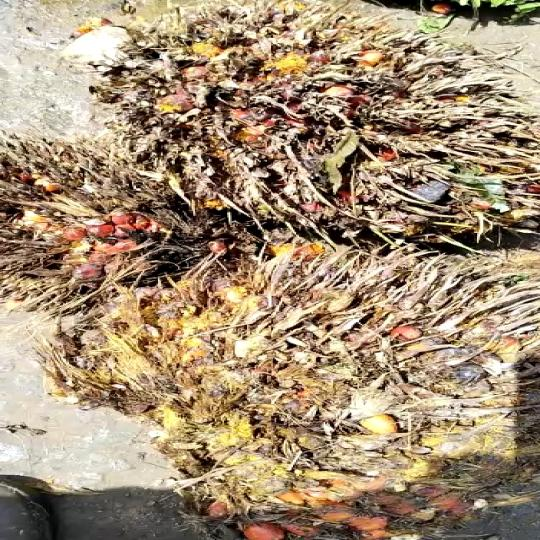terlalu masak: (44, 243, 533, 519), (108, 0, 527, 246)
